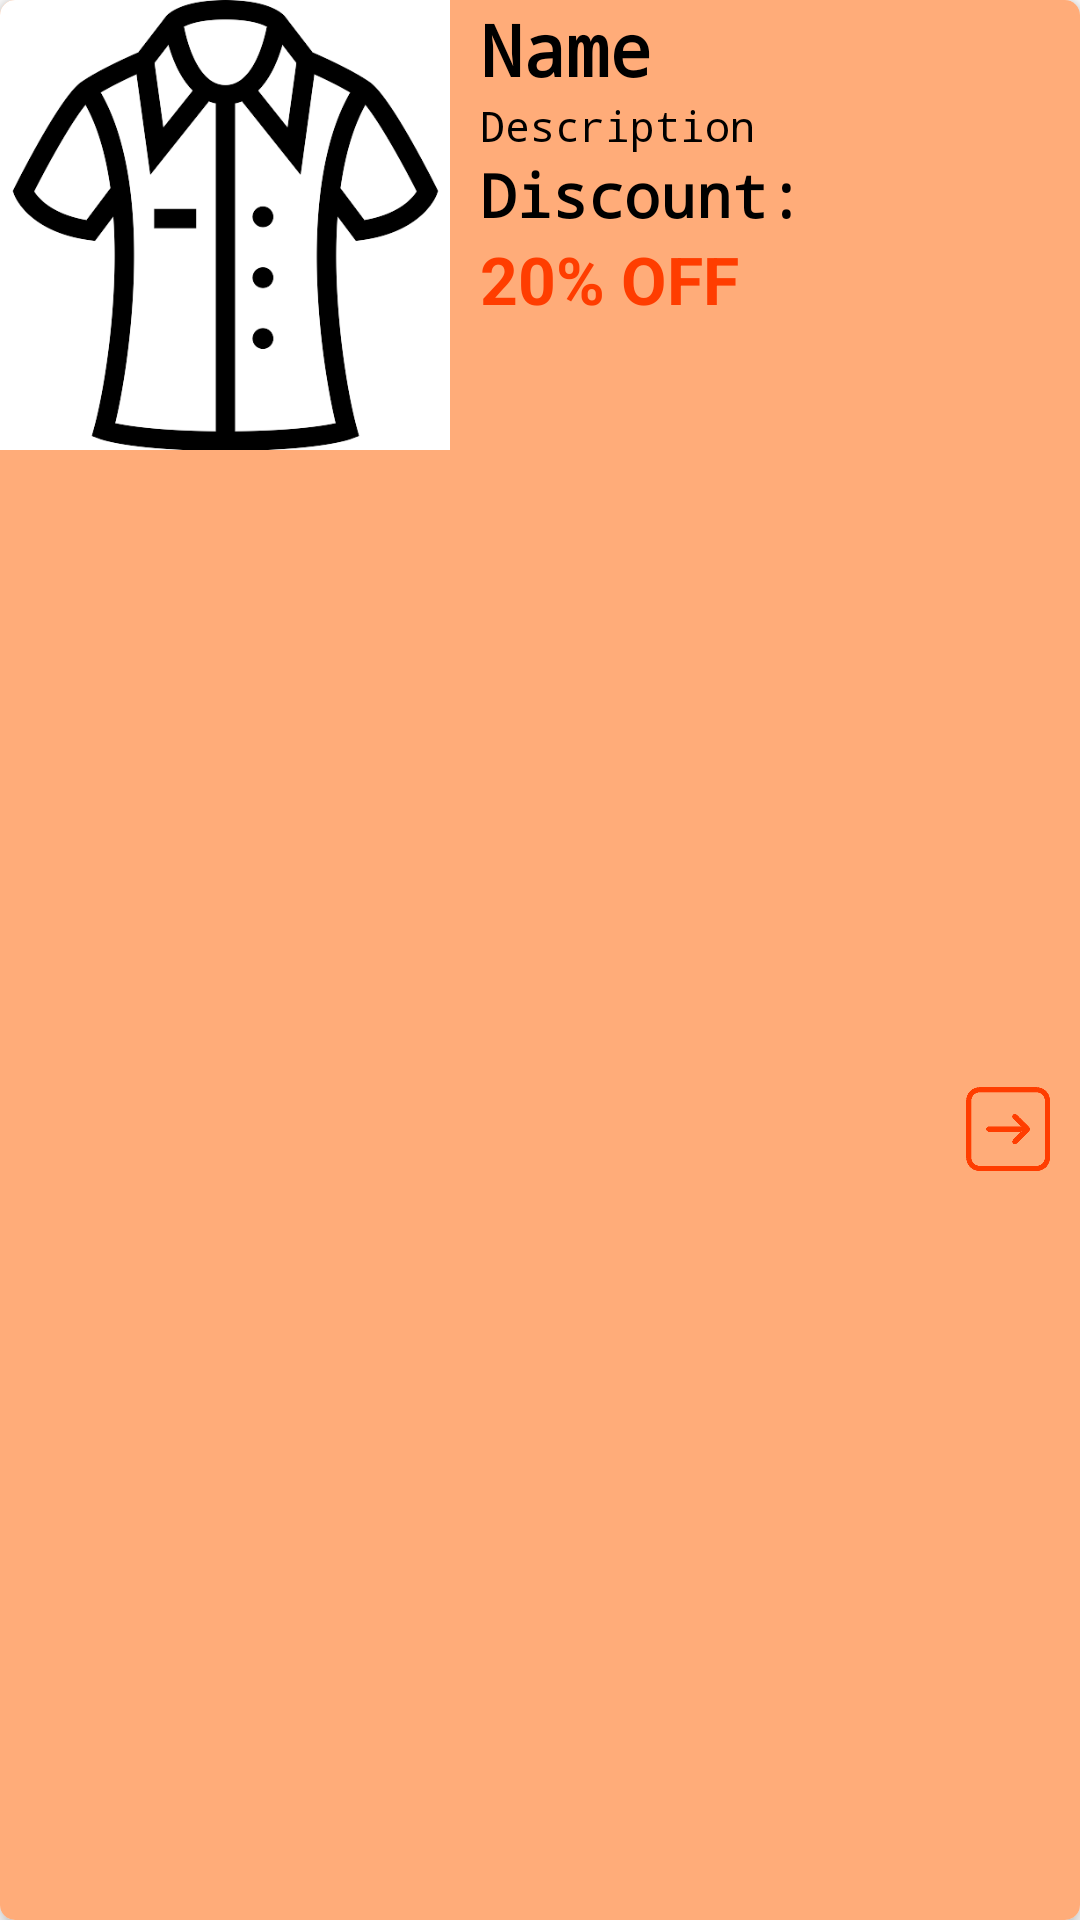

Icons on this 1080×1920 Android screen, each with the point to tap as (x,y):
next: (1008,1129)
